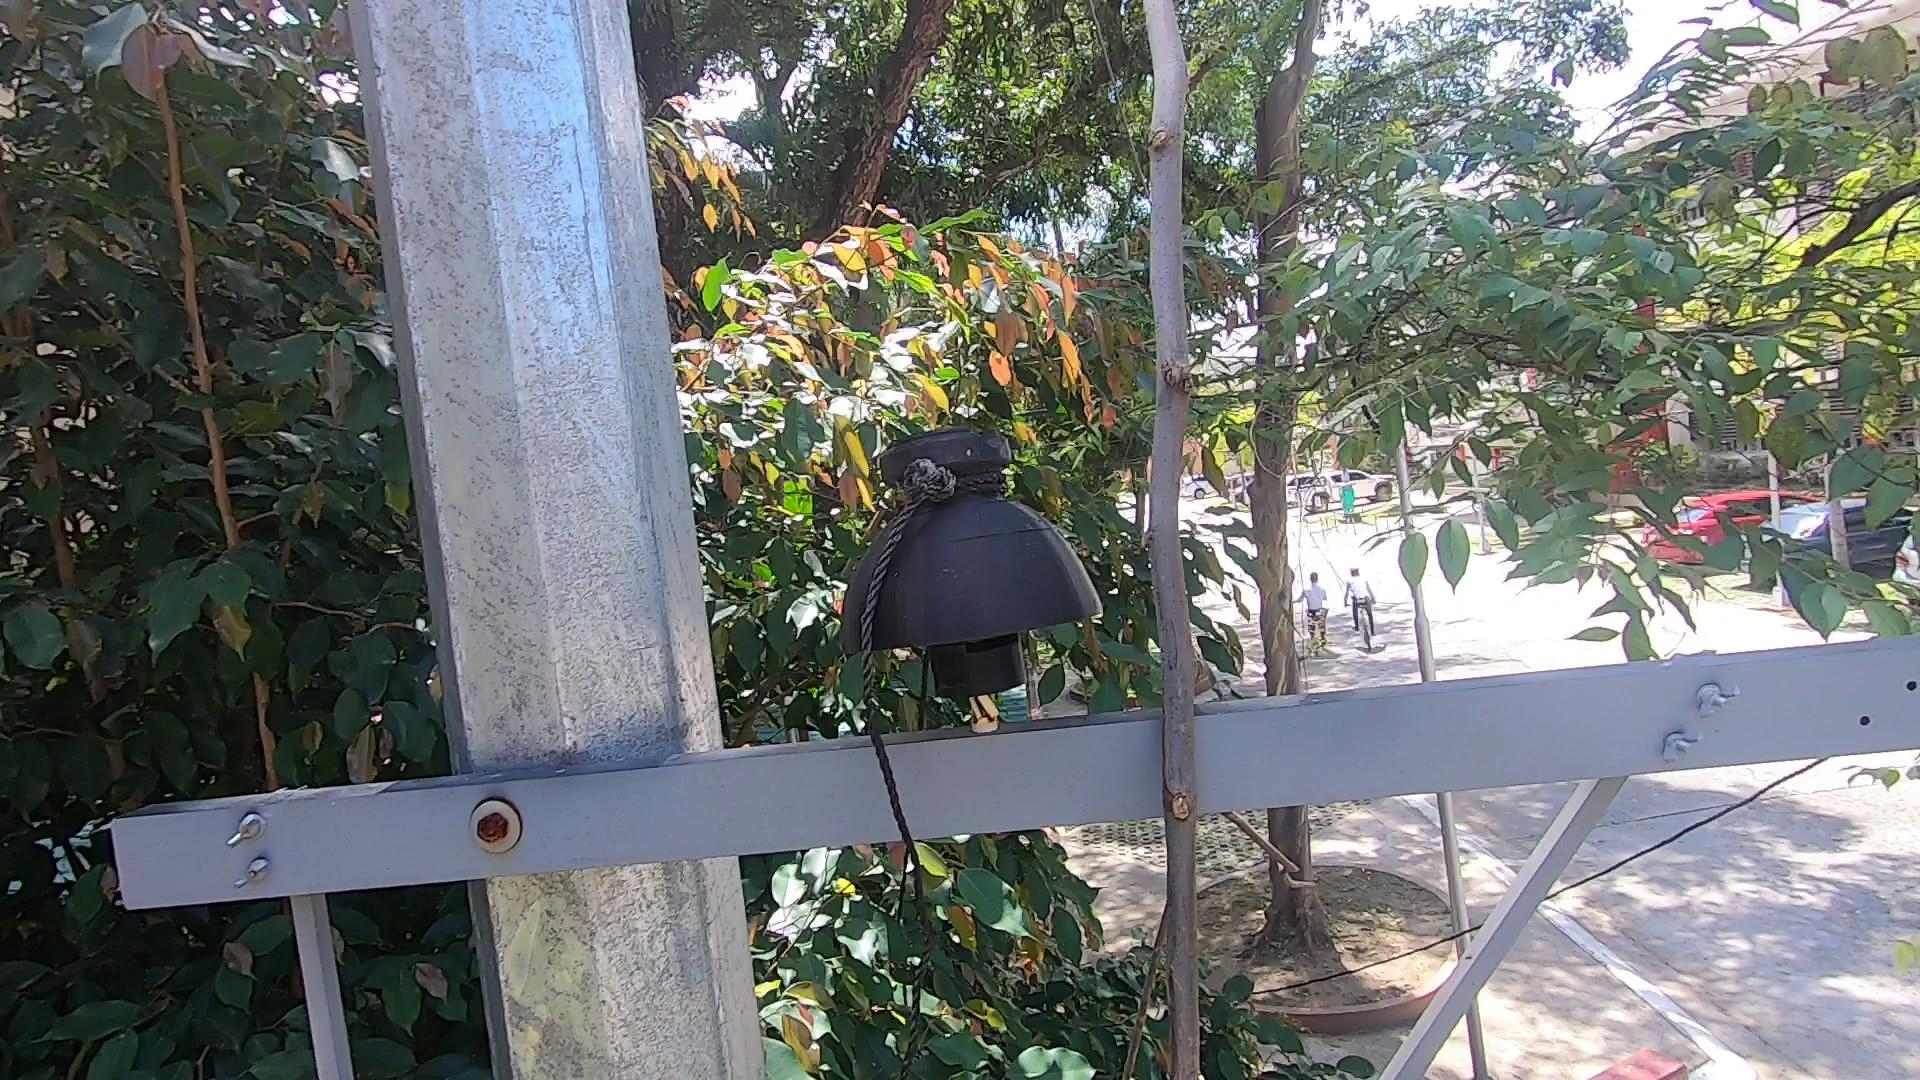tree branch: (1073, 7, 1327, 1080)
